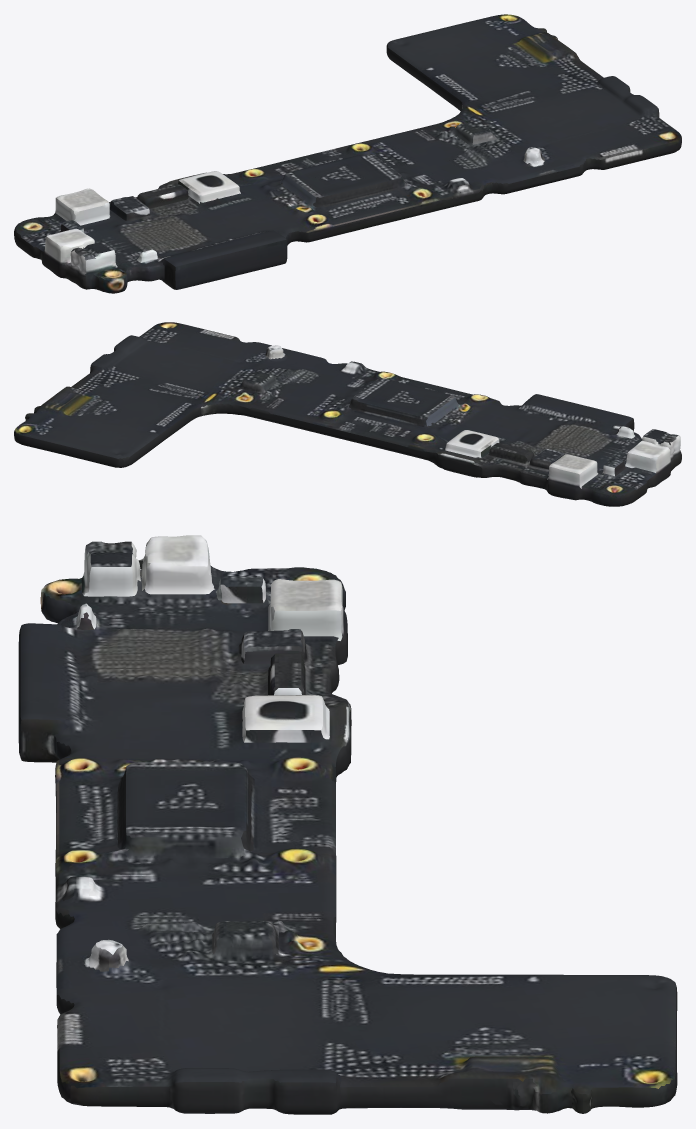
Rendered from logic-board.glb.
The picture shows the model from 3 angles, top to bottom: view 1: azimuth 30°, elevation 25°; view 2: azimuth 150°, elevation 25°; view 3: azimuth 270°, elevation 25°; orthographic projection. The views are drawn at different scales.
Visible parts, largest first — view 1: tmpglkcd7dt.ply; view 2: tmpglkcd7dt.ply; view 3: tmpglkcd7dt.ply.
Boxes of the visible parts, x1,y1,x2,y2 form: tmpglkcd7dt.ply: (14, 14, 681, 293); tmpglkcd7dt.ply: (14, 322, 681, 506); tmpglkcd7dt.ply: (18, 535, 677, 1114).
Size of the model in its own units: 0.9871 by 0.0586 by 0.5243.
1 material, 1 textured.
